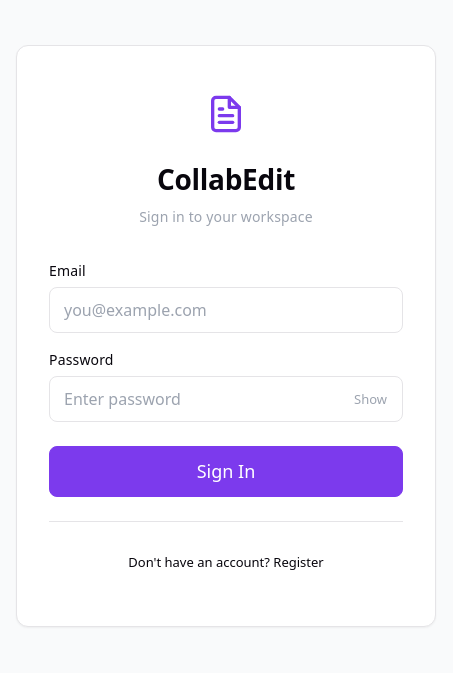
Scenario: LoginPage › shows an error message when the server rejects the credentials
The image size is (453, 673).
Type "alice@example.com" into the field labelled "Email" at (226, 310), box [49,287,403,333]
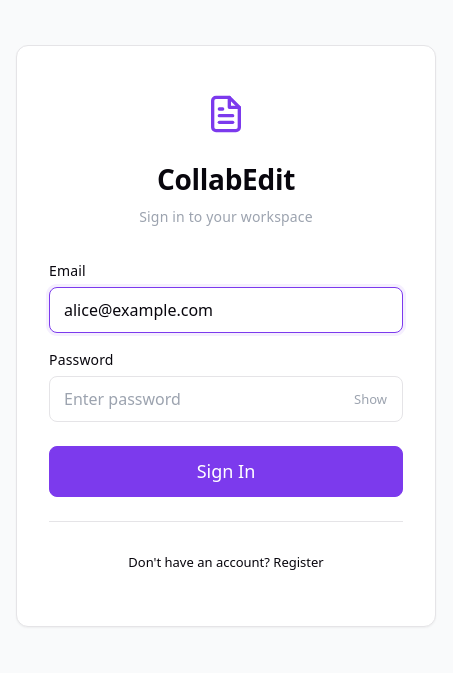
Type "wrong" into the password field labelled "Password" at (226, 399), box [49,376,403,422]
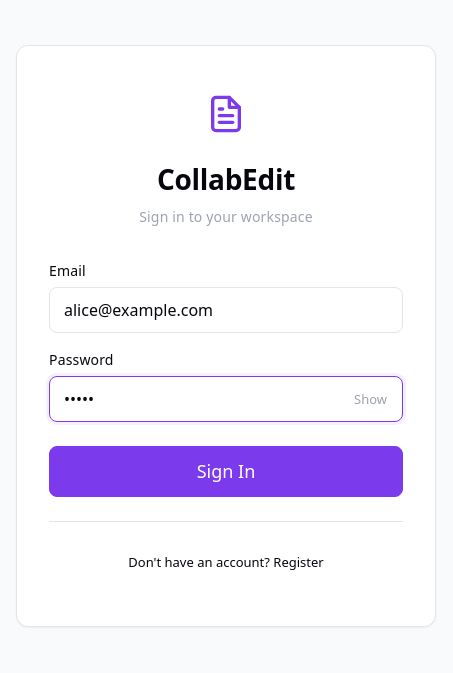
Click the button "Sign In" at (226, 472), box [49,446,403,497]
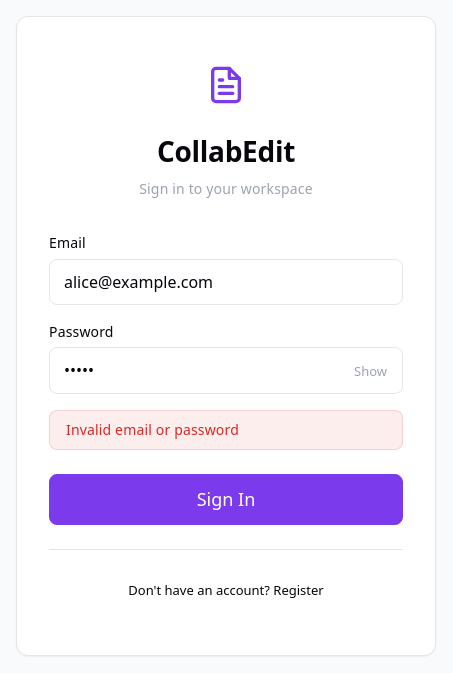
Expected: the text "Invalid email or password" is shown, [49,410,403,450]
